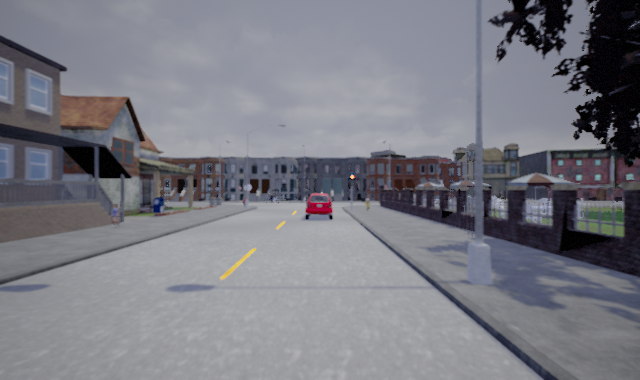vehicle: (303, 192, 334, 220)
